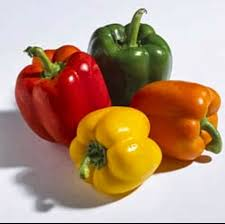bell pepper: (132, 59, 225, 179), (11, 35, 108, 145), (62, 96, 153, 186), (85, 4, 169, 99)
